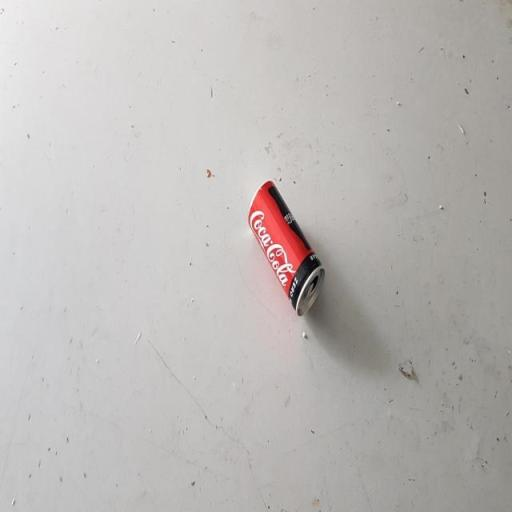metal: (238, 168, 329, 336)
